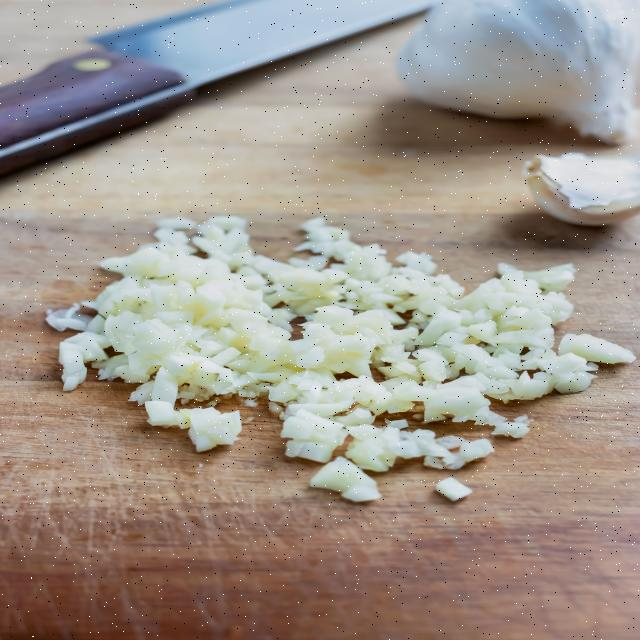Garlic: (32, 18, 640, 295), (22, 221, 611, 476), (497, 262, 498, 264)
